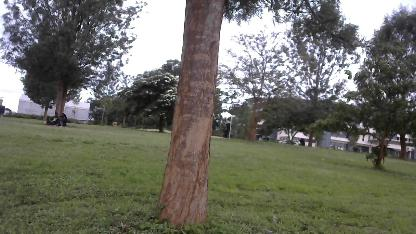tree: (0, 0, 146, 130), (161, 0, 229, 234)
